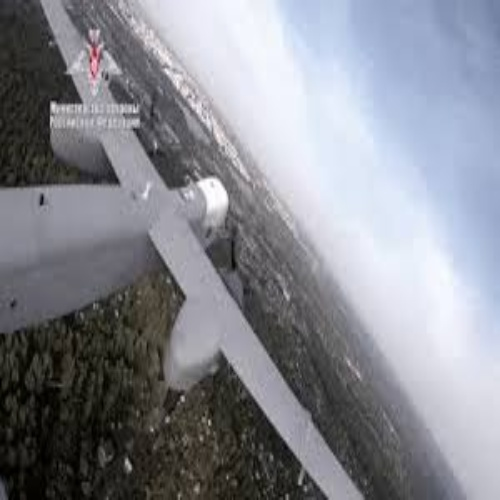uav: (1, 2, 365, 498)
